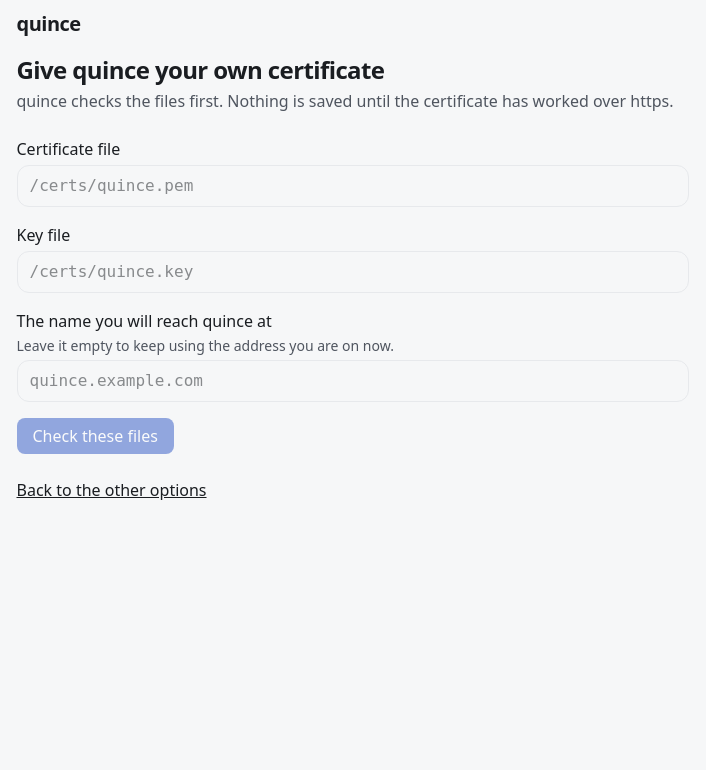
the certificate step › says nothing about the current address once a name is typed
Type "/tls/fullchain.pem" into the field labelled "Certificate file" at {"x": 352, "y": 186}, box [16,165,688,207]
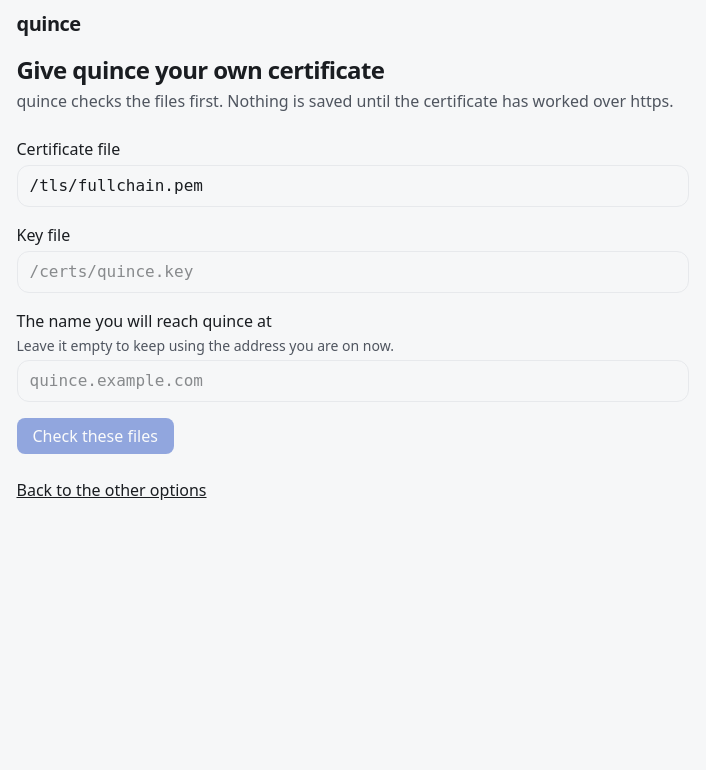
Type "/tls/privkey.pem" into the field labelled "Key file" at {"x": 352, "y": 272}, box [16,251,688,293]
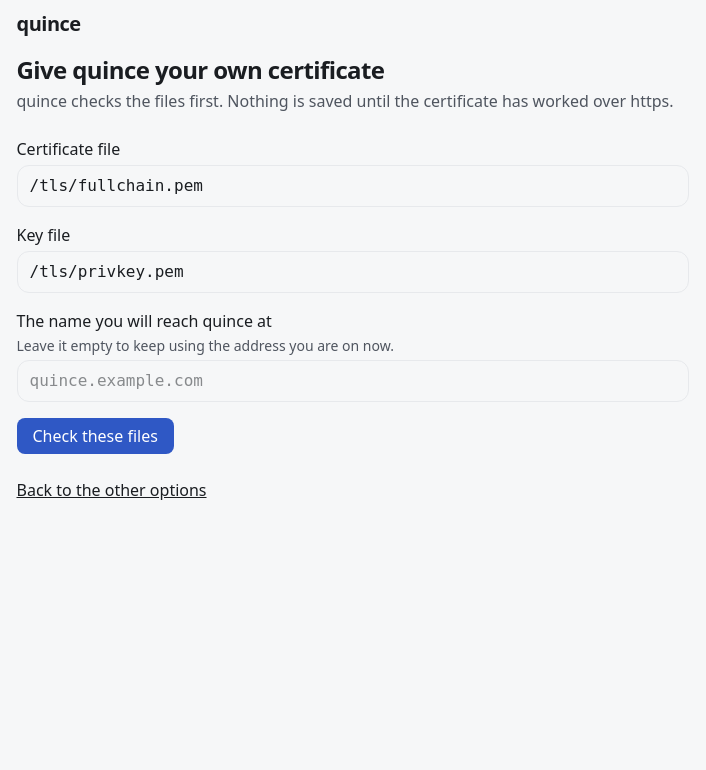
Type "quince.example" into the field labelled "The name you will reach quince at" at {"x": 352, "y": 381}, box [16,360,688,402]
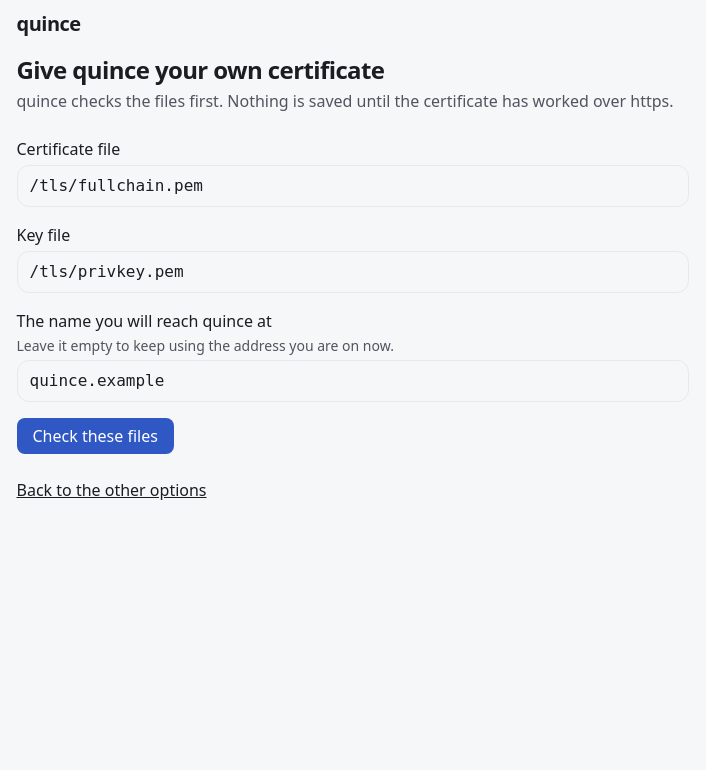
Click the button "Check these files" at {"x": 95, "y": 436}, box [16,418,174,454]
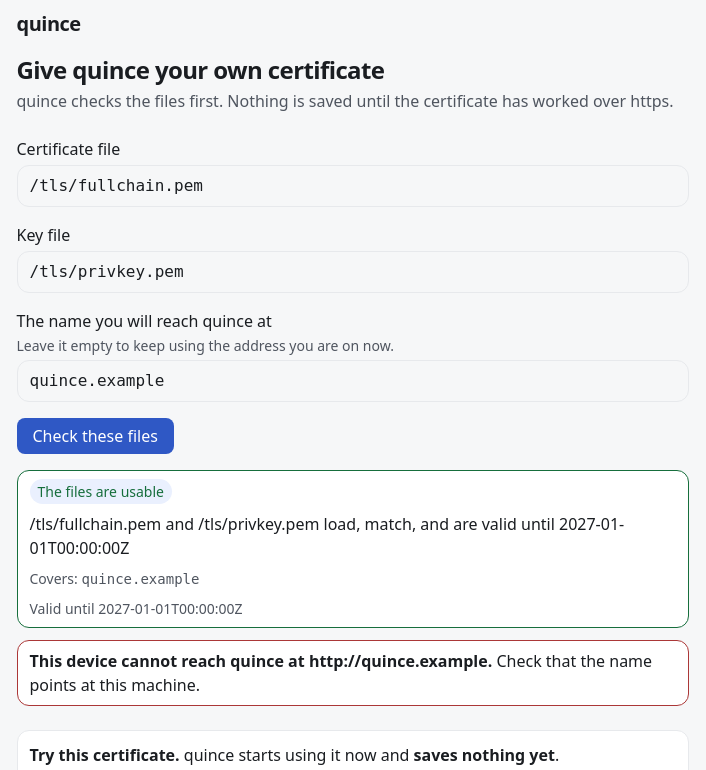
Expected: the text "The files are usable" is shown, [30,479,172,504]
